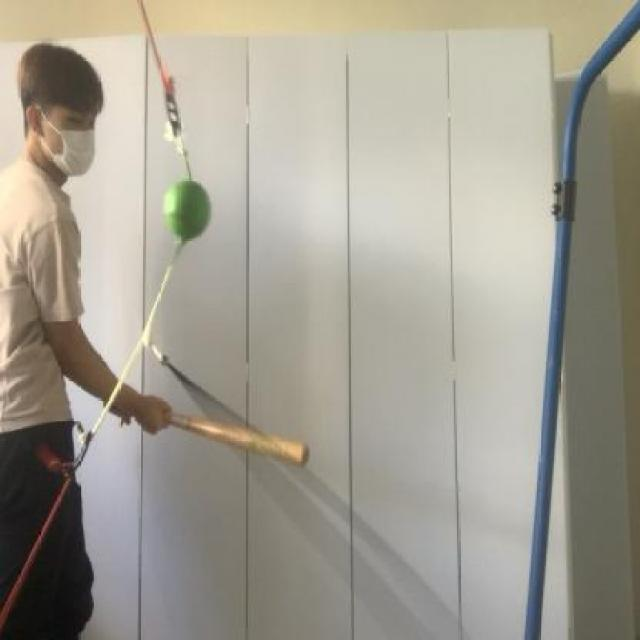baseball: (161, 173, 219, 250)
